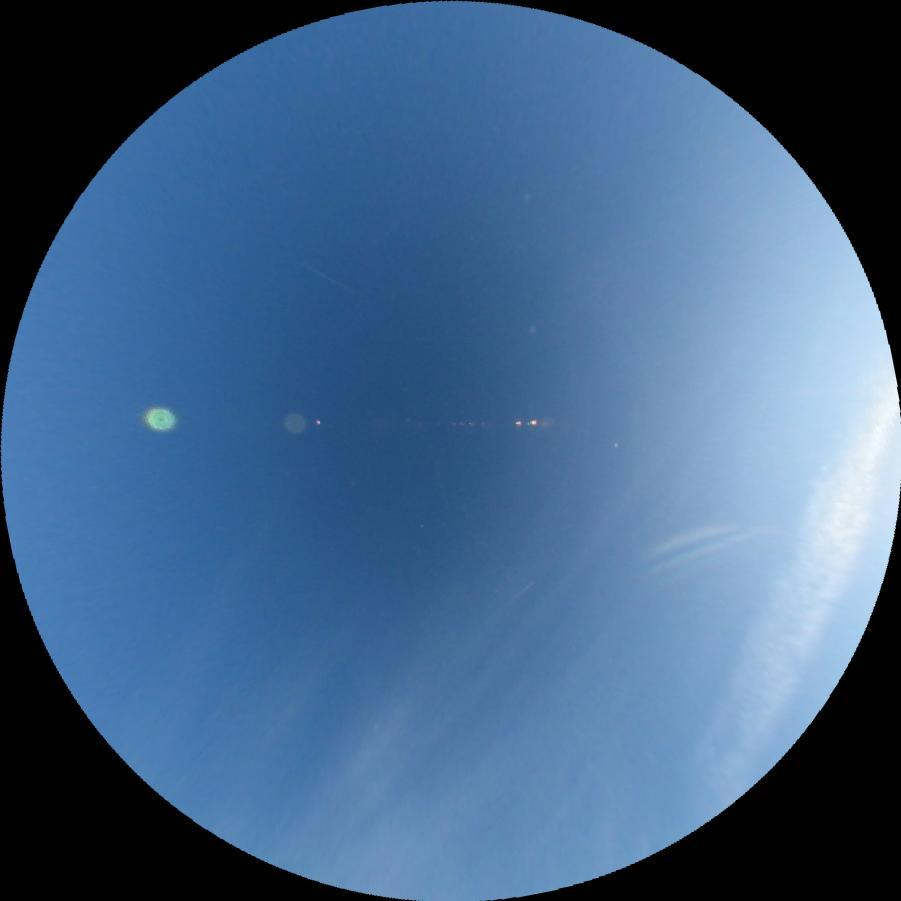contrail young: (309, 264, 353, 292), (503, 578, 534, 605)
parasite: (644, 516, 740, 556)
